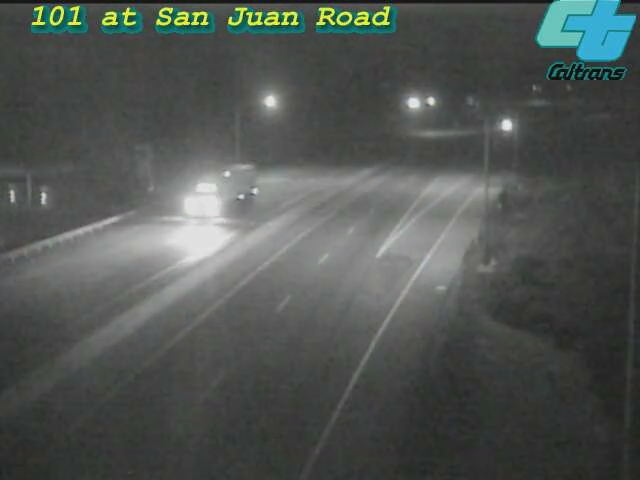vehicle: (186, 150, 266, 230), (479, 100, 529, 150)
